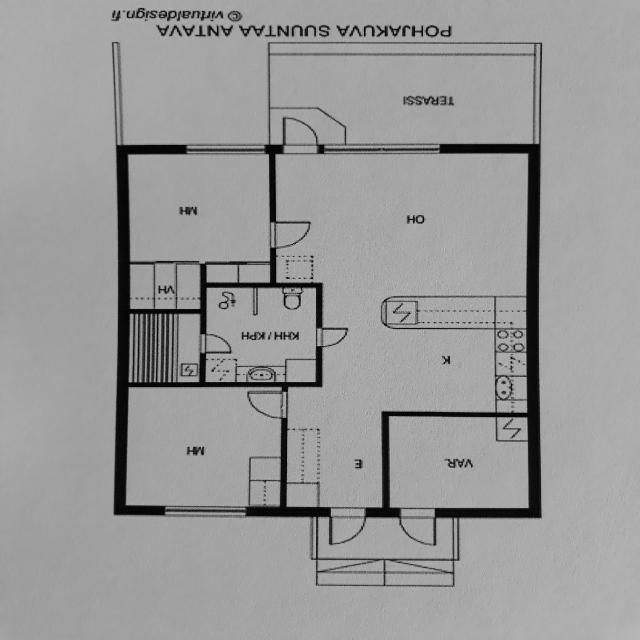door: (274, 108, 332, 156), (260, 216, 316, 252), (396, 506, 440, 550), (240, 387, 291, 422), (326, 508, 368, 548), (312, 323, 355, 351), (198, 330, 235, 356)
window: (320, 139, 447, 159), (178, 140, 272, 159), (158, 504, 252, 520)
zone: (278, 151, 536, 327), (318, 323, 534, 515), (124, 383, 282, 510), (123, 150, 274, 266), (384, 414, 534, 513), (201, 283, 321, 386), (123, 310, 205, 384), (123, 261, 205, 311)
